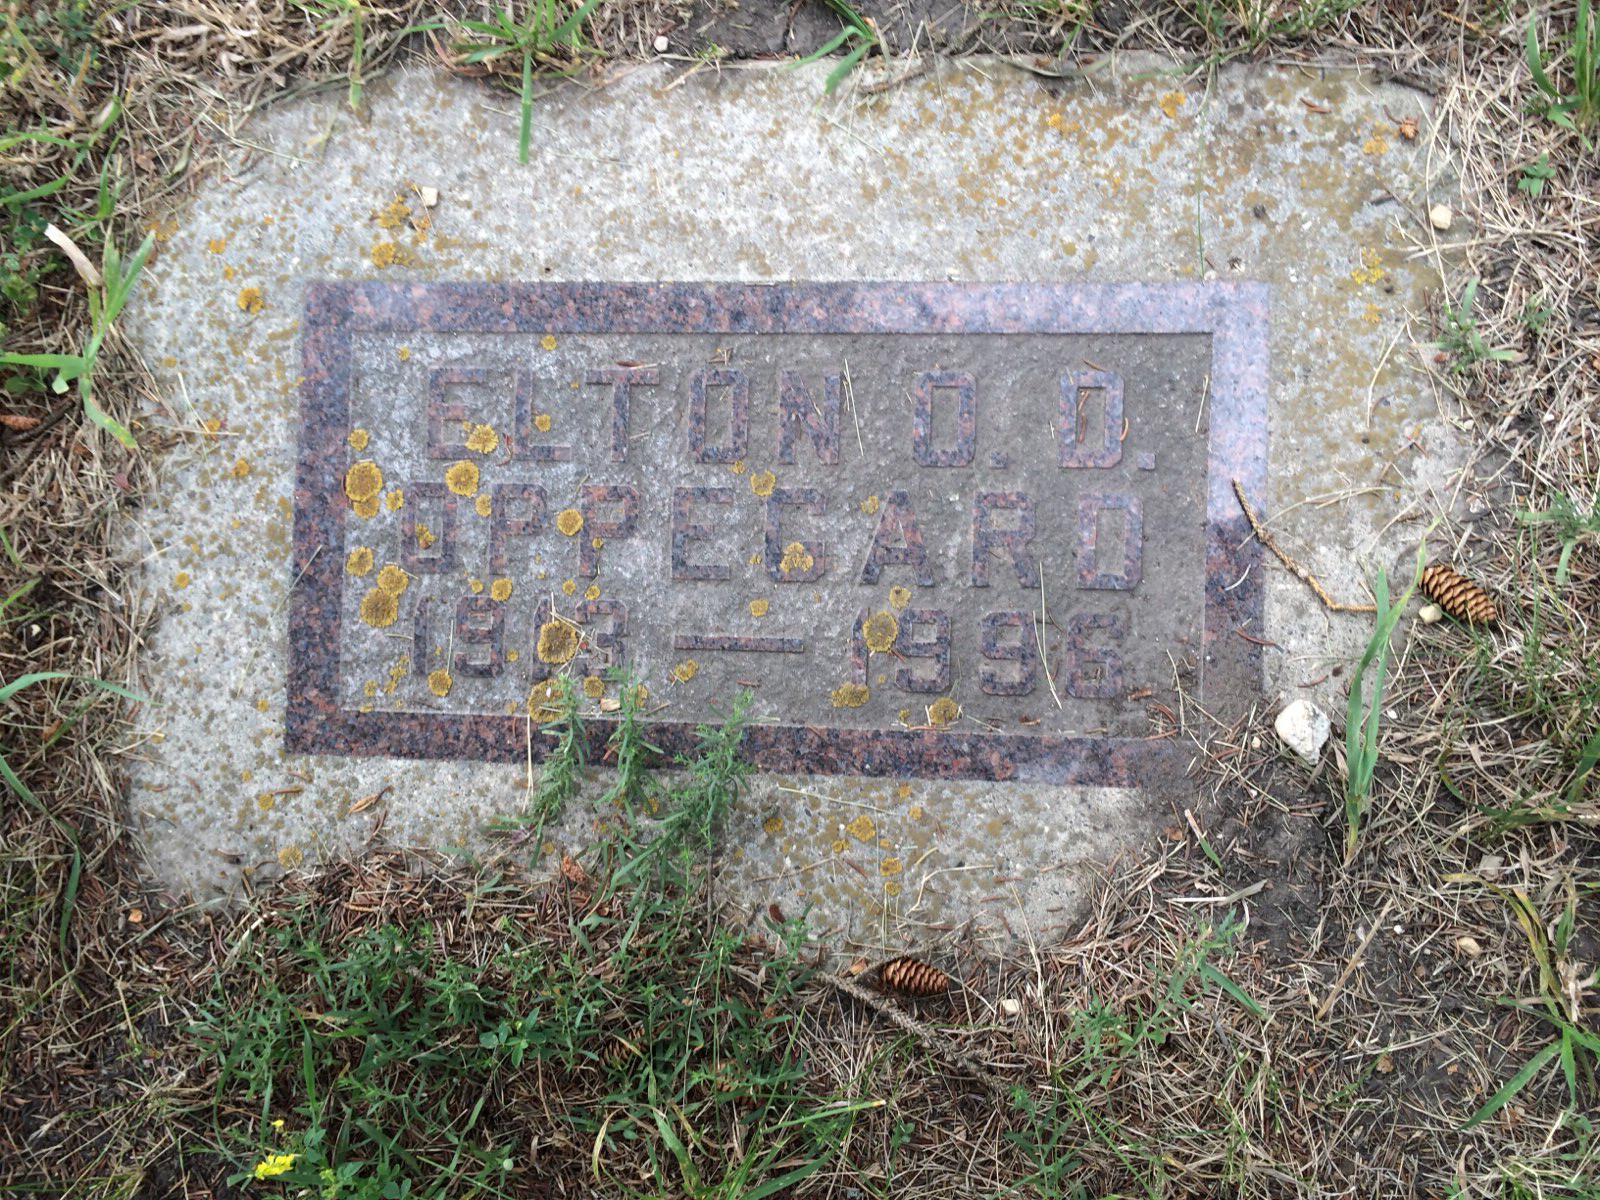flat: (287, 270, 1283, 807)
